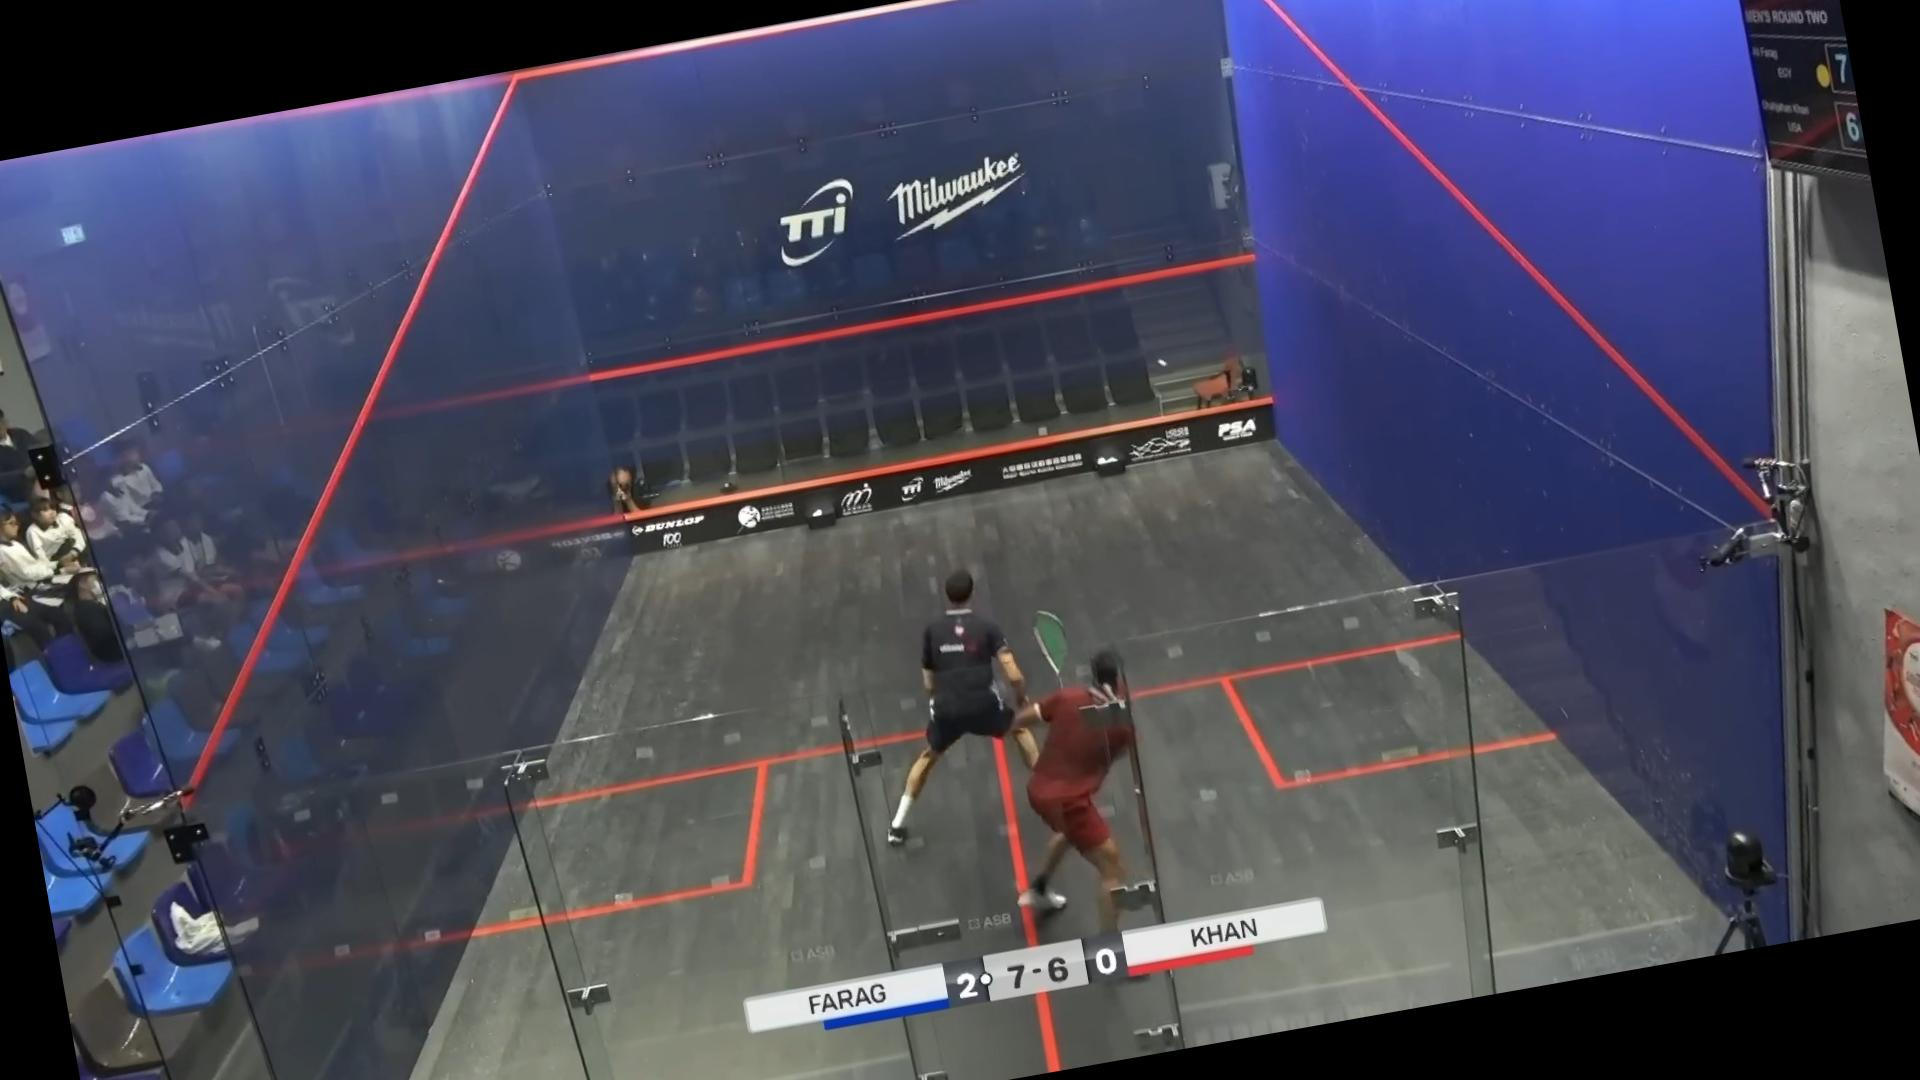Racket: (1029, 604, 1084, 702)
